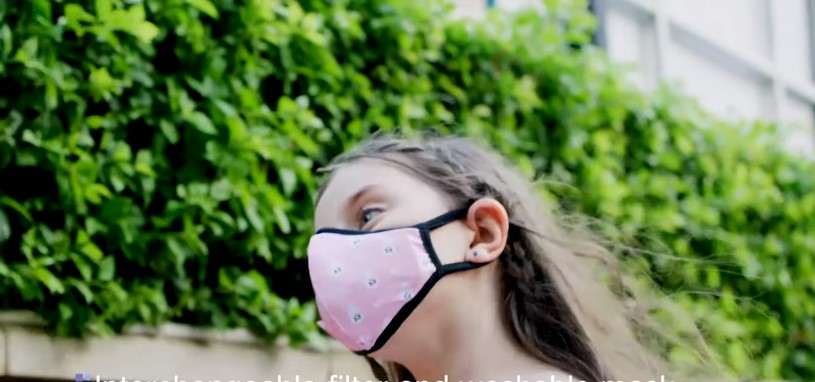face_with_mask: (305, 140, 509, 357)
